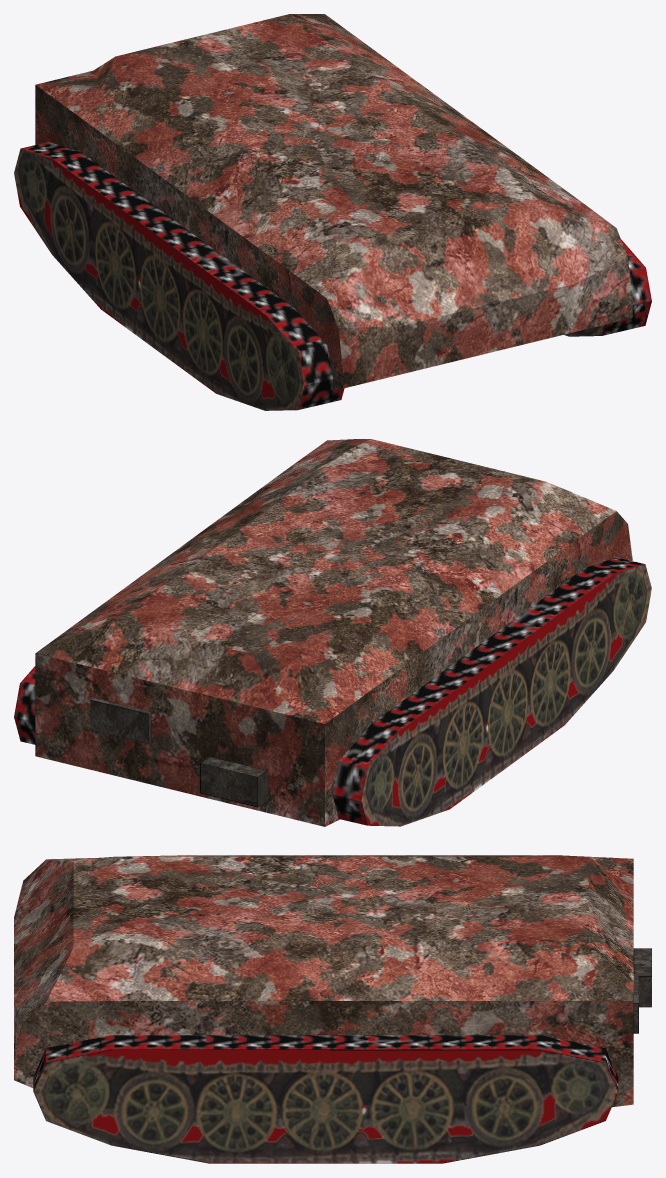
Rendered from Rbase.dae.
3 renders of one model, top to bottom at view 1: azimuth 30°, elevation 25°; view 2: azimuth 150°, elevation 25°; view 3: azimuth 270°, elevation 25°, orthographic.
Parts seen in each view (by area): view 1: Left Wheel-0; view 2: Left Wheel-0; view 3: Left Wheel-0.
Part boxes in pixels (x1,y1,x2,y2): Left Wheel-0: (14,14,651,410); Left Wheel-0: (14,439,651,826); Left Wheel-0: (14,855,651,1163).
Size of the model in its own units: 2.41 by 1.18 by 3.79.
